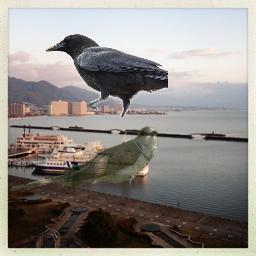Crow: (45, 34, 168, 117)
Cuckoo: (10, 125, 158, 193)
